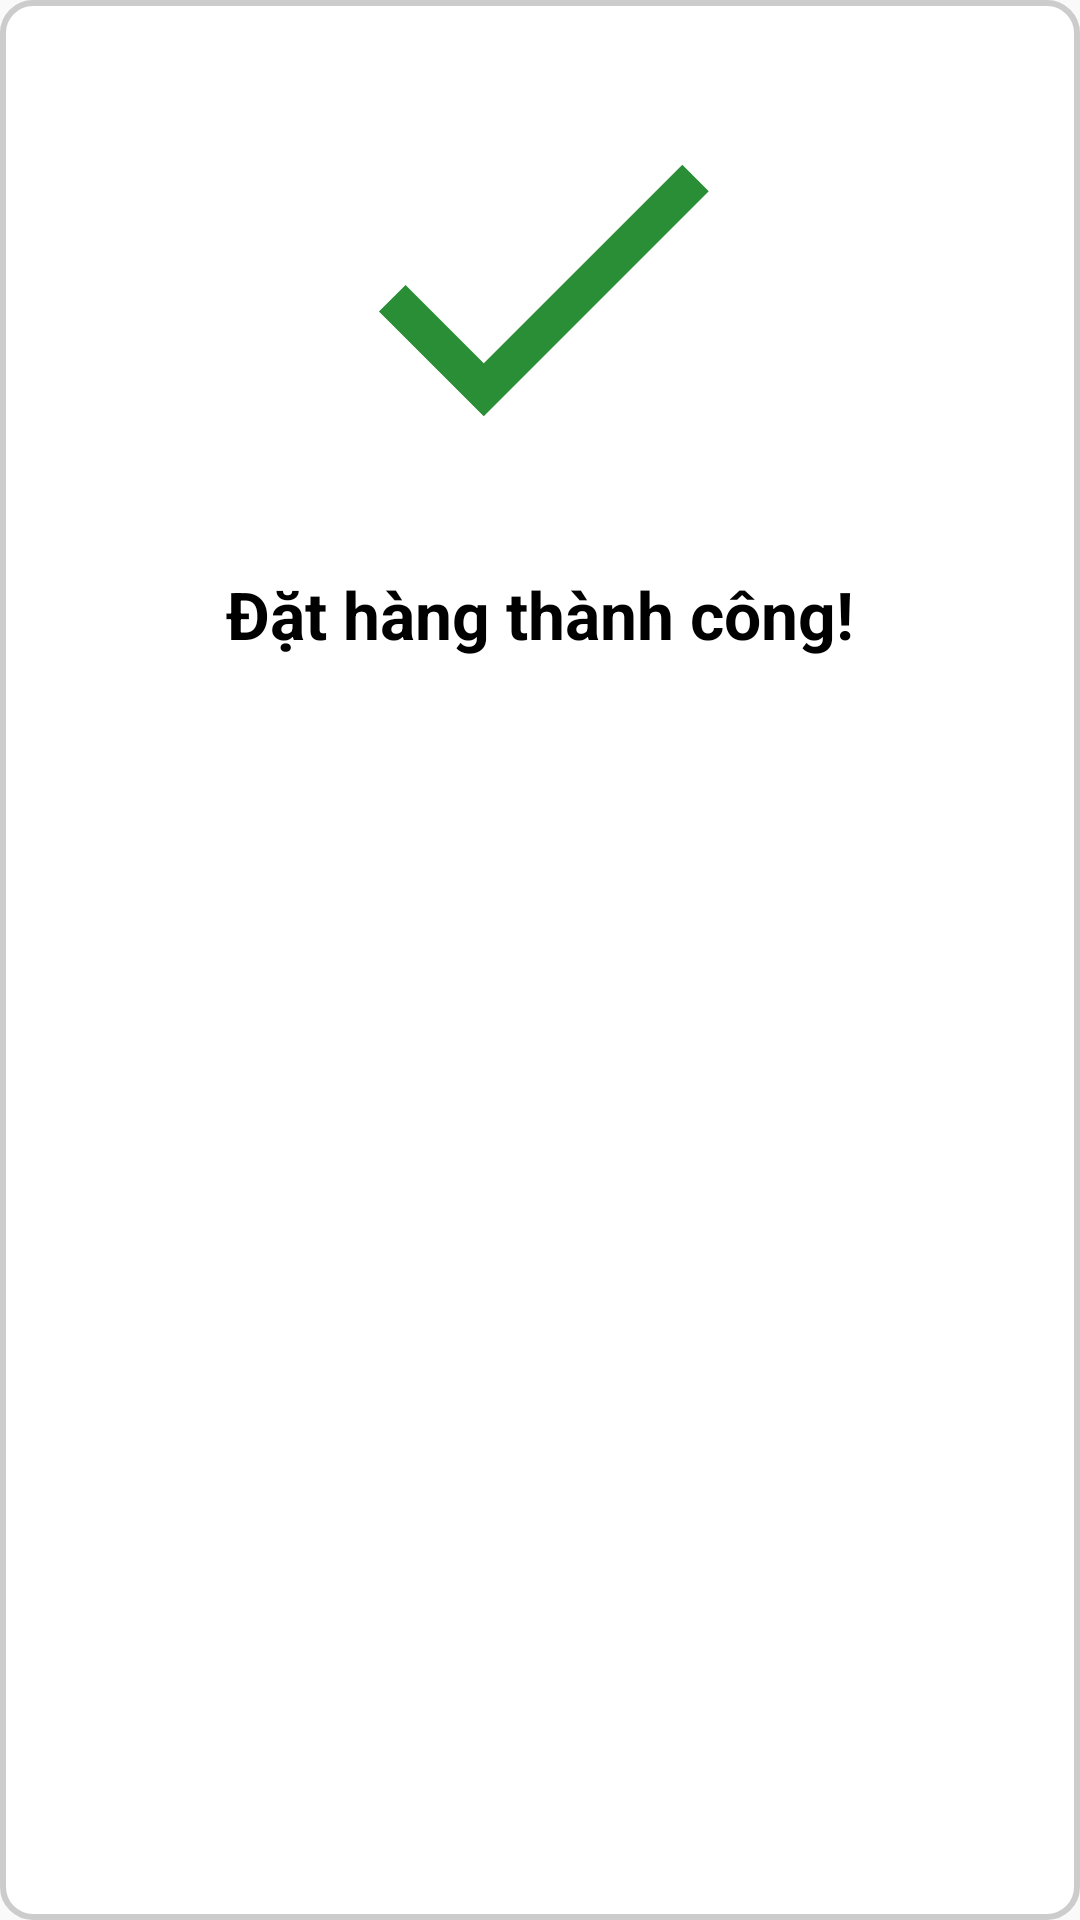

Icons on this 1080 × 1920 Android screen, each with its box as (left=x1, top=y1, right=x2, bottom=y2):
success: (left=379, top=165, right=709, bottom=416)
